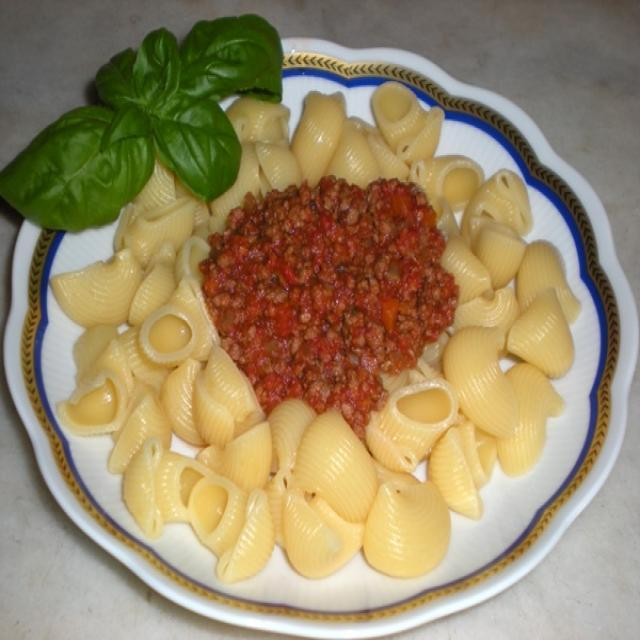Pasta al ragu: (146, 176, 515, 498)
